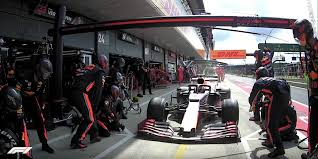FormulaOneCar: (136, 75, 245, 146)
